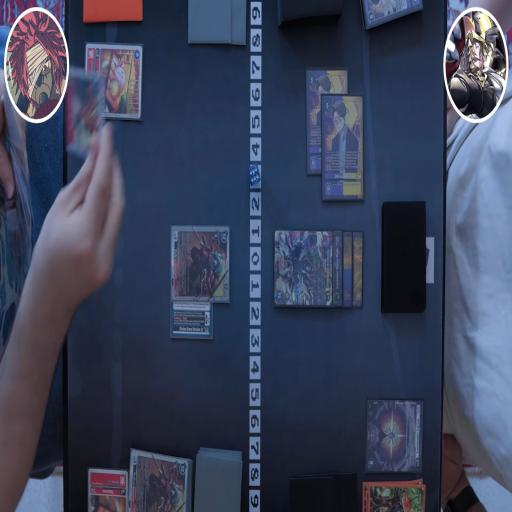card: (320, 94, 366, 206), (169, 224, 231, 306), (271, 231, 333, 308), (306, 70, 348, 174), (367, 398, 423, 475), (86, 46, 144, 120), (128, 449, 188, 512), (359, 0, 419, 30), (170, 300, 214, 340), (88, 468, 128, 512), (342, 230, 354, 311), (354, 230, 364, 312), (333, 231, 343, 310)
